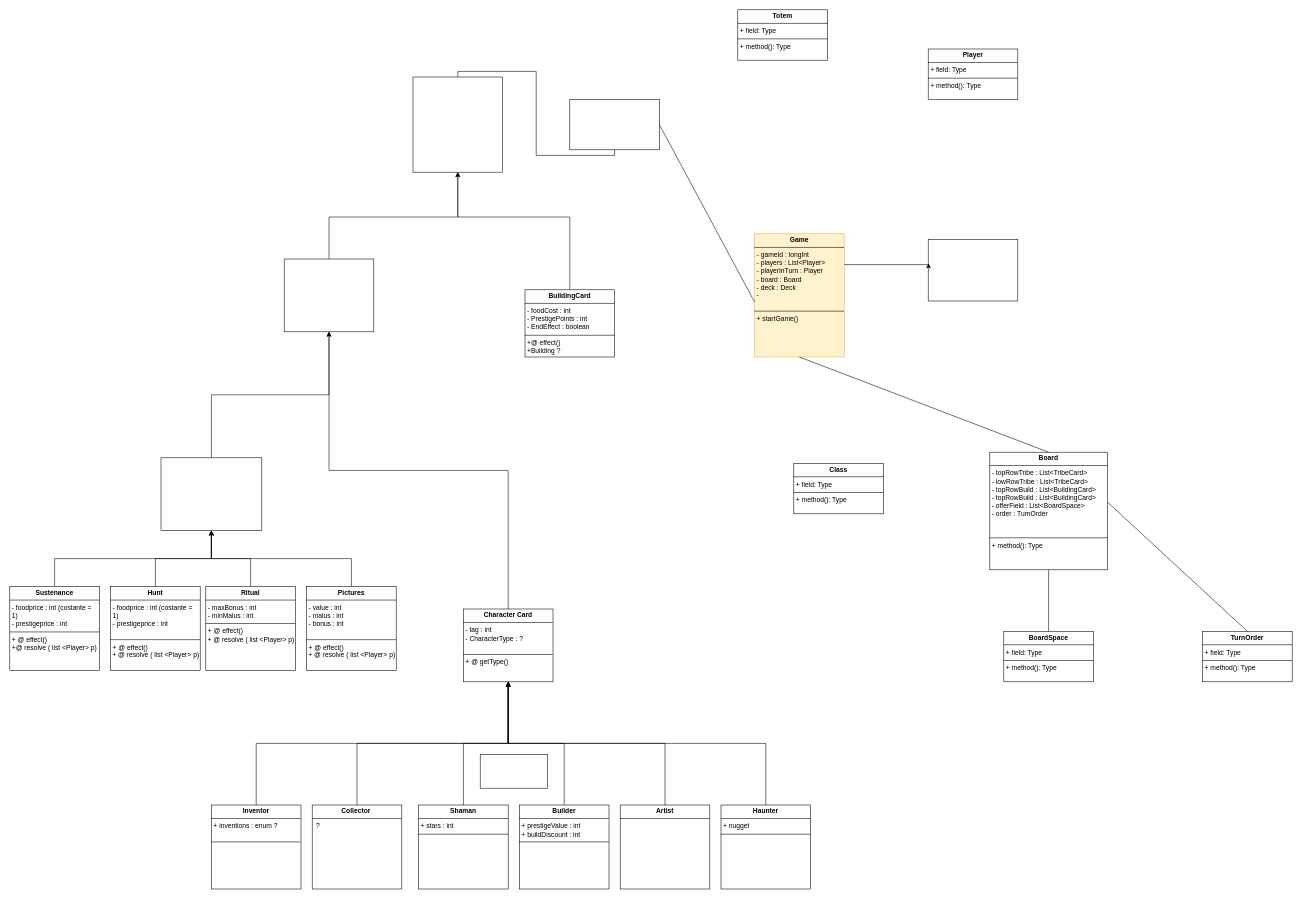
Some shapes in this 1302 by 899 pixel diagram are drawn without their labels. Each missing label, with the centre of its shape:
<enumeration> GameState LOGIN START IN_GAME END: point (973, 270)
att pubblici?: point (513, 771)
Card <abstract> - Id : longInt - Age : Int + effect(): point (457, 124)
Deck - cards : List <Card>: point (614, 124)
Event Card -EventType: ? + @ effect() +@ getType() + resolve ( list <Player> p): point (211, 494)
TribeCard - TypeCardTribe : ? + @ effect() + getType(): point (329, 295)
